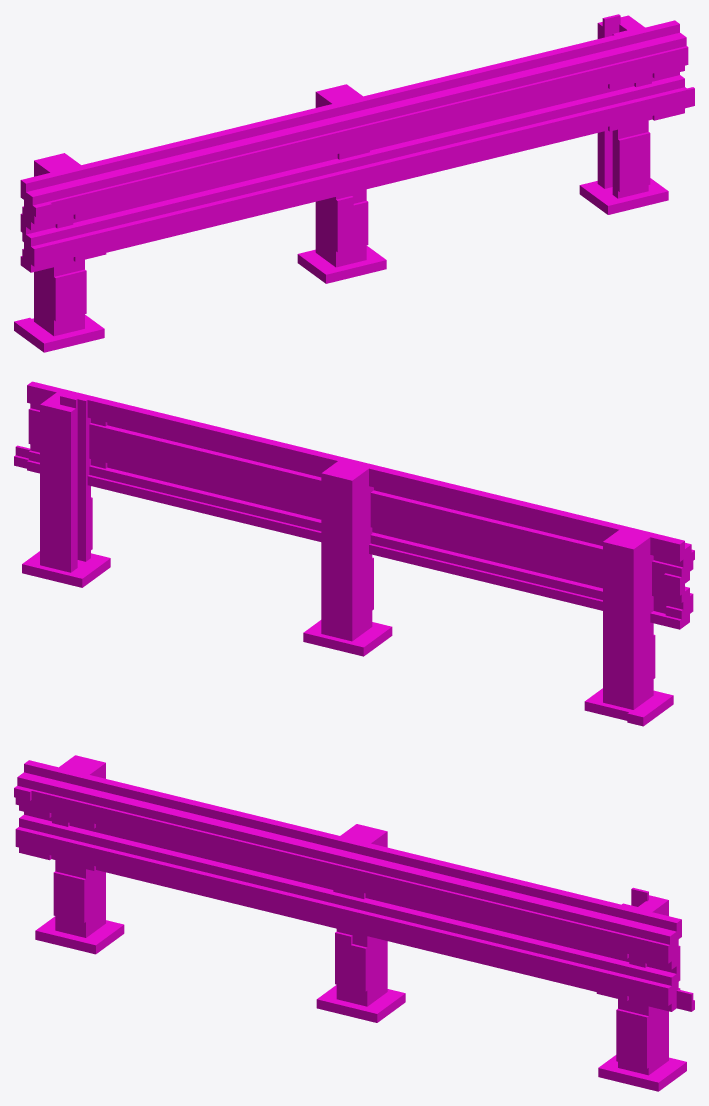
File: game-ready_modular_metal_guardrail.glb
3 views of the same model, one above another, from view 1: azimuth 30°, elevation 25°; view 2: azimuth 150°, elevation 25°; view 3: azimuth 330°, elevation 25° (orthographic).
Visible parts, largest first — view 1: col_roof_43, col_roof_41, col_roof_42, col_wall_13, col_wall_16, col_roof_44, col_roof_62, col_wall_29, col_wall_01, col_wall_24, col_roof_60, col_roof_59 (+44 smaller); view 2: col_roof_10, col_roof_12, col_roof_08, col_roof_02, col_column_03, col_roof_01, col_column_01, col_roof_20, col_roof_62, col_roof_03, col_column_05, col_roof_60 (+24 smaller); view 3: col_roof_41, col_roof_42, col_roof_43, col_wall_13, col_wall_16, col_roof_44, col_roof_62, col_wall_29, col_wall_01, col_roof_60, col_roof_63, col_wall_24 (+41 smaller).
Boxes of the visible parts, x1=… form: col_roof_43: x1=374, y1=89, x2=510, y2=140; col_roof_41: x1=107, y1=155, x2=243, y2=205; col_roof_42: x1=241, y1=122, x2=376, y2=173; col_wall_13: x1=106, y1=199, x2=228, y2=248; col_wall_16: x1=507, y1=105, x2=614, y2=150; col_roof_44: x1=509, y1=64, x2=614, y2=107; col_roof_62: x1=362, y1=64, x2=501, y2=108; col_wall_29: x1=369, y1=118, x2=506, y2=162; col_wall_01: x1=617, y1=132, x2=650, y2=191; col_wall_24: x1=372, y1=130, x2=510, y2=173; col_roof_60: x1=214, y1=103, x2=337, y2=144; col_roof_59: x1=103, y1=143, x2=241, y2=187; col_roof_10: x1=370, y1=490, x2=490, y2=555; col_roof_12: x1=89, y1=423, x2=208, y2=486; col_roof_08: x1=488, y1=520, x2=602, y2=583; col_roof_02: x1=321, y1=479, x2=367, y2=565; col_column_03: x1=321, y1=555, x2=367, y2=641; col_roof_01: x1=603, y1=548, x2=648, y2=633; col_column_01: x1=603, y1=623, x2=648, y2=709; col_roof_20: x1=206, y1=450, x2=321, y2=506; col_roof_62: x1=205, y1=425, x2=342, y2=474; col_roof_03: x1=40, y1=413, x2=77, y2=496; col_column_05: x1=40, y1=489, x2=77, y2=572; col_roof_60: x1=369, y1=465, x2=491, y2=514; col_roof_41: x1=89, y1=804, x2=225, y2=855; col_roof_42: x1=224, y1=836, x2=358, y2=887; col_roof_43: x1=356, y1=869, x2=490, y2=919; col_wall_13: x1=89, y1=845, x2=211, y2=893; col_wall_16: x1=489, y1=942, x2=596, y2=987; col_roof_44: x1=489, y1=901, x2=595, y2=945; col_roof_62: x1=365, y1=843, x2=503, y2=887; col_wall_29: x1=360, y1=898, x2=497, y2=942; col_wall_01: x1=616, y1=1008, x2=648, y2=1068; col_roof_60: x1=217, y1=807, x2=339, y2=848; col_roof_63: x1=358, y1=858, x2=493, y2=901; col_wall_24: x1=357, y1=910, x2=492, y2=953.
Size of the model in its own units: 1.2 by 0.3059 by 0.1142.
